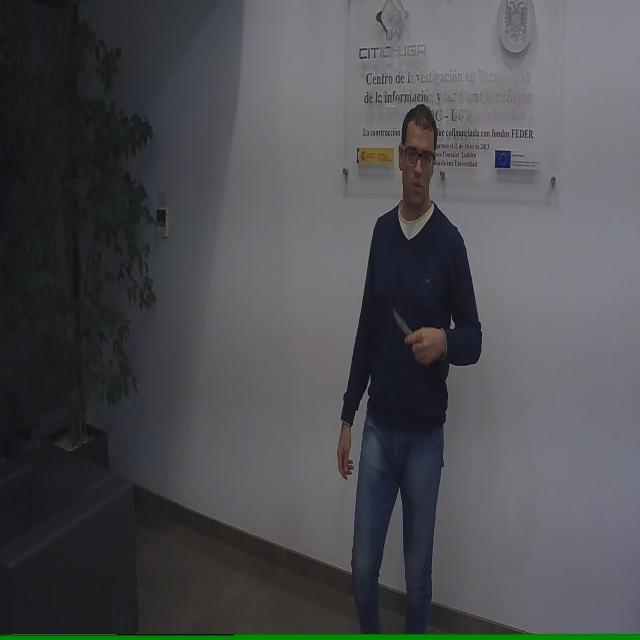knife: (390, 301, 430, 367)
